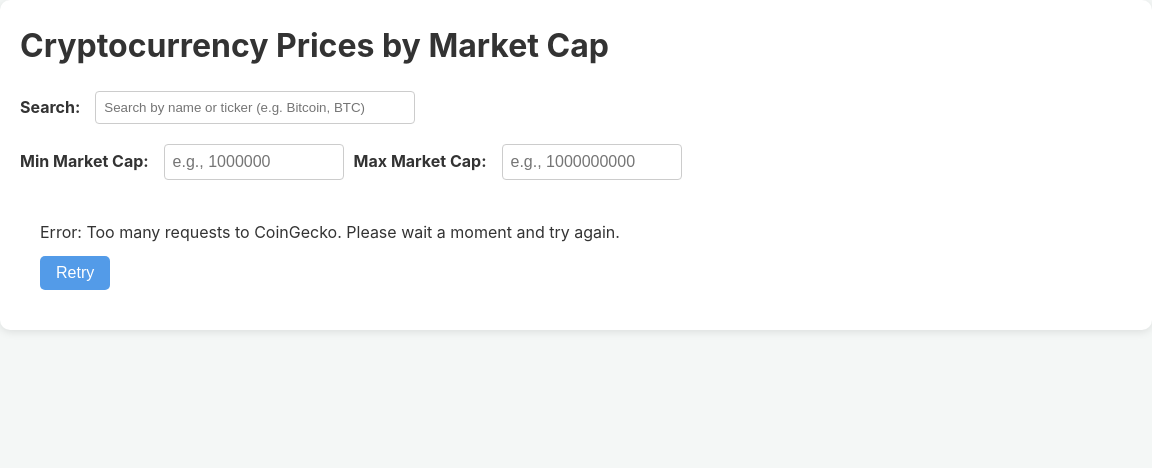
Test: Home — loading and error states › shows an error message with a working retry button
The width and height of the screenshot is (1152, 468).
Expected: the text "Too many requests to CoinGecko" is shown, [86, 222, 620, 242]
Click the button "Retry".
click(75, 273)  # box [40, 256, 110, 290]
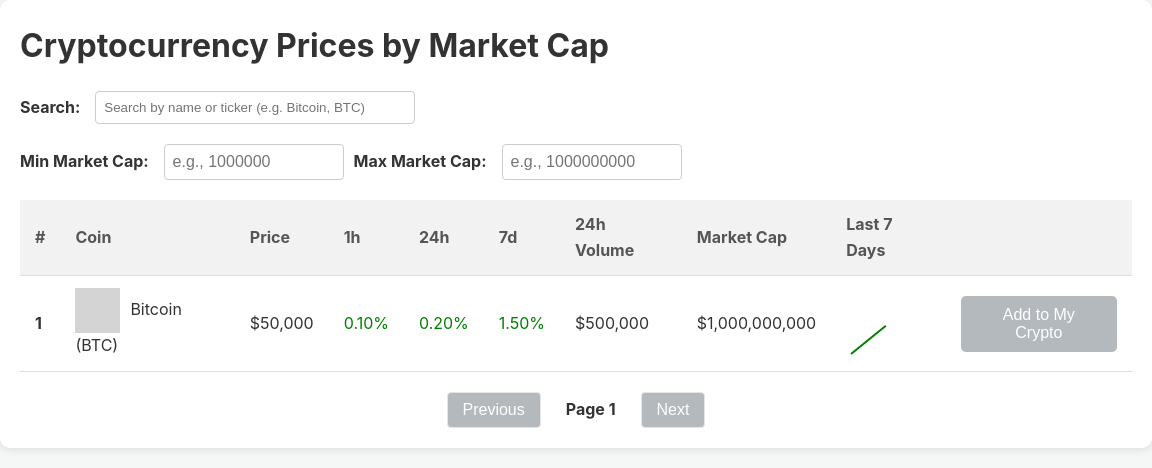
Now the text "Bitcoin (BTC)" is shown, box [60, 276, 235, 372]
